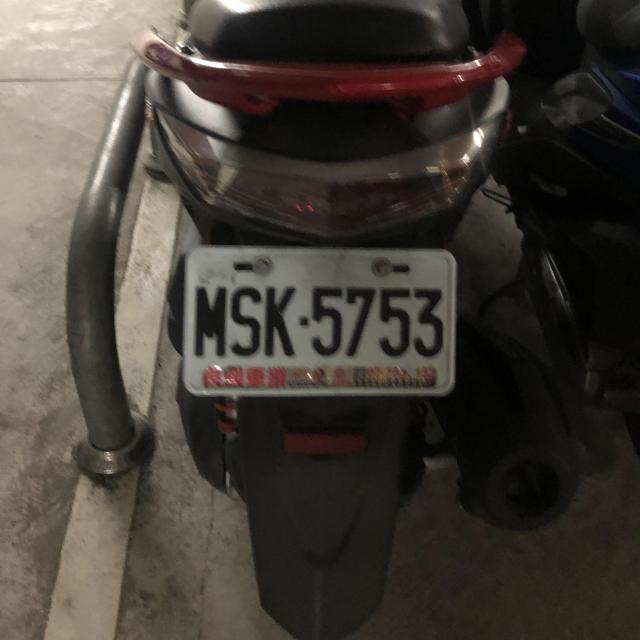W: (174, 230, 464, 407)
